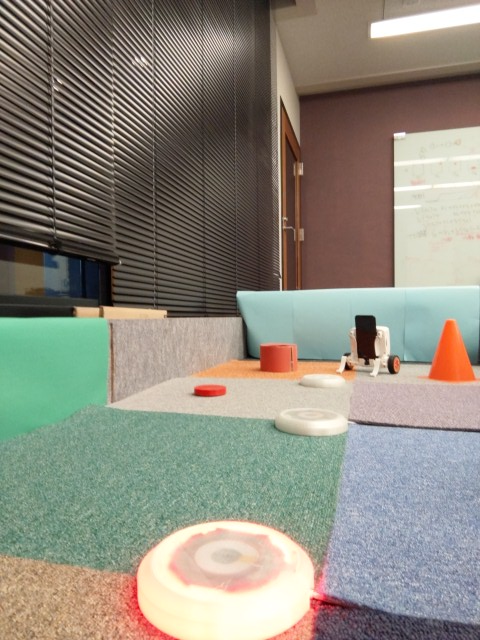f: (335, 312, 402, 377)
o: (273, 406, 350, 438), (297, 372, 345, 388)
r: (128, 507, 317, 640)
